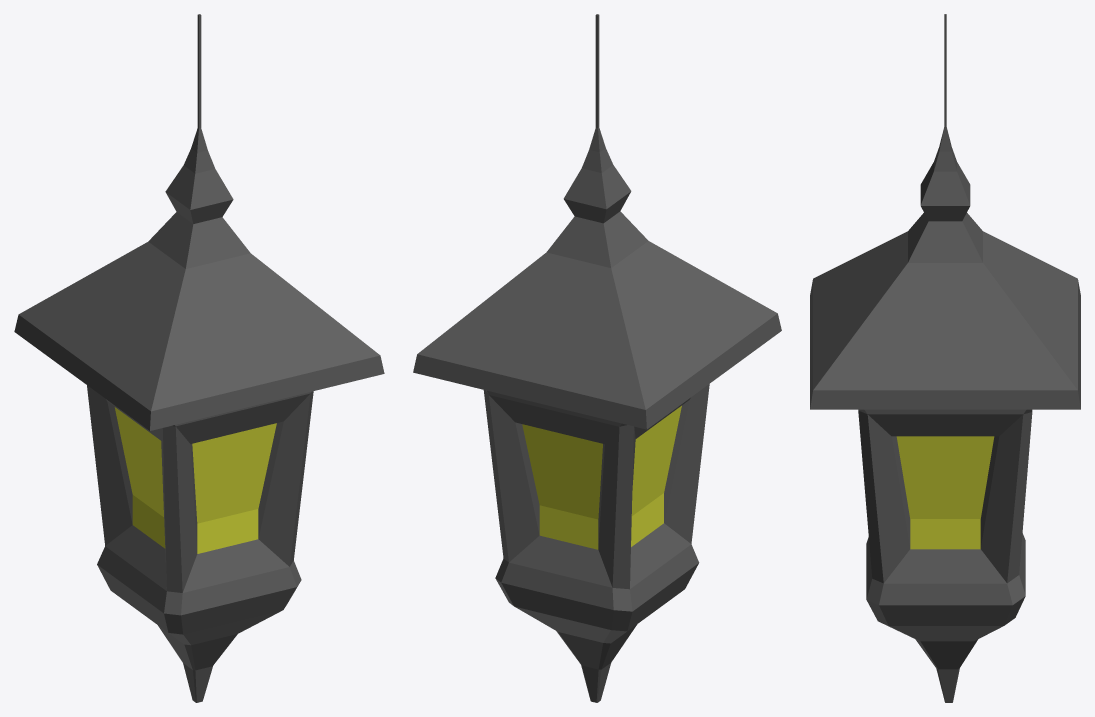
The model's file is lantern.fbx.
The picture shows the model from 3 angles, left to right: view 1: azimuth 30°, elevation 25°; view 2: azimuth 150°, elevation 25°; view 3: azimuth 270°, elevation 25°; orthographic projection.
Parts seen in each view (by area): view 1: Cube; view 2: Cube; view 3: Cube.
Part boxes in pixels (x1=…): Cube: x1=14, y1=14, x2=384, y2=702; Cube: x1=413, y1=14, x2=781, y2=702; Cube: x1=810, y1=14, x2=1080, y2=702.
Bounding box in the file's own units: 449 × 1255 × 449.
